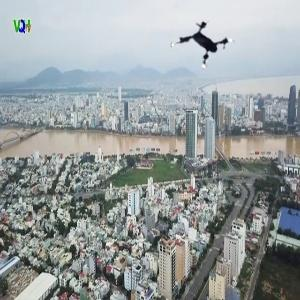drone: (167, 12, 241, 86)
